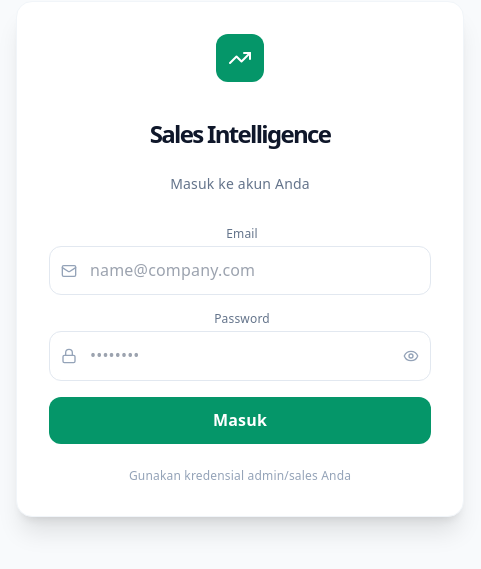
Test case: Login › ✅ Form Submission › shows error on invalid credentials
In the field with placeholder "name@company.com": (240, 271) [49,246,431,295], type "wrong@example.com"
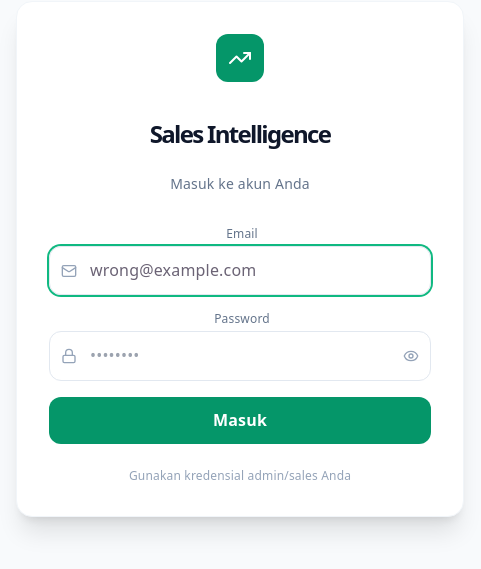
In the password field with placeholder "••••••••": (240, 356) [49,331,431,381], type "wrongpass"
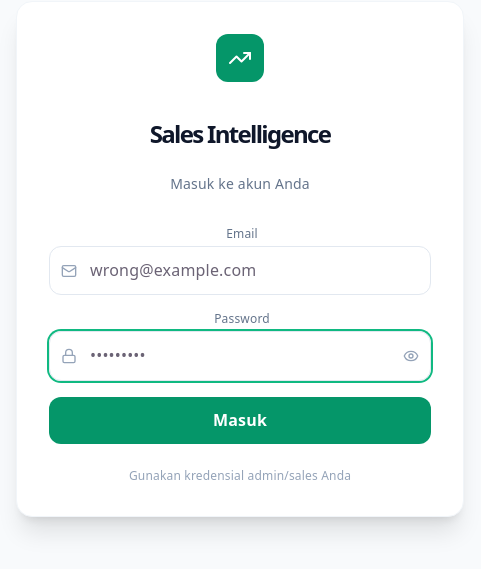
Click the button "Masuk": (240, 420) [49,397,431,444]
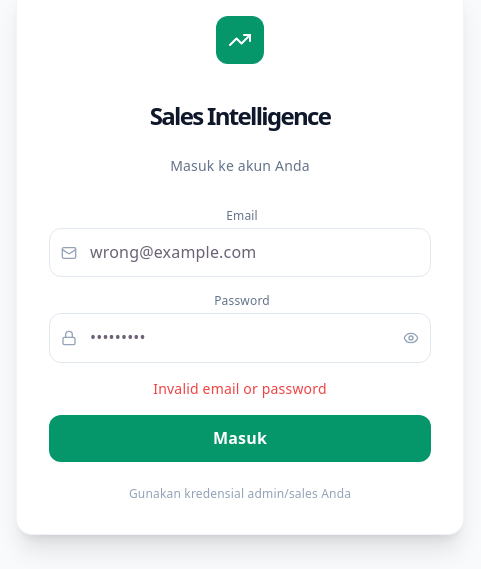
Check: the text "Invalid email or password" is shown, box [153,379,327,398]
